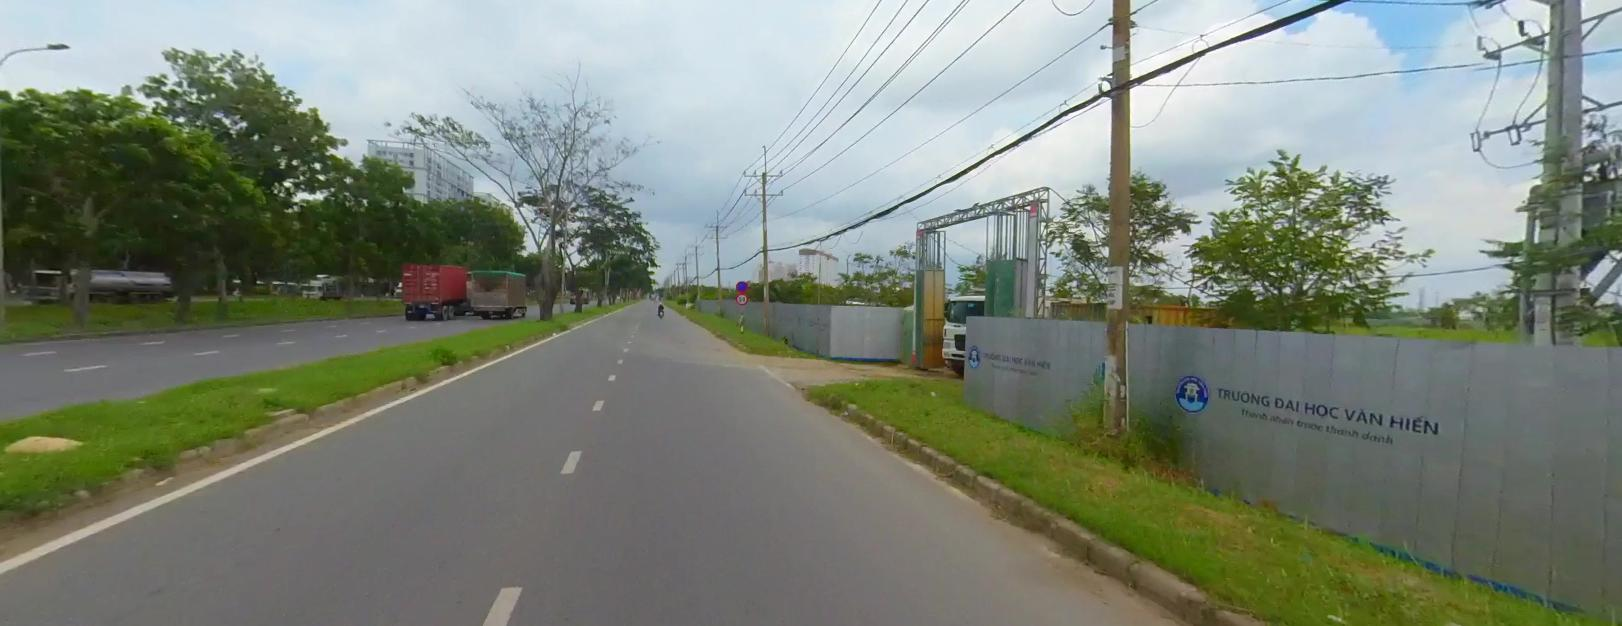Cam dung va do: (735, 278, 748, 291)
Gioi han toc do: (735, 291, 748, 303)
